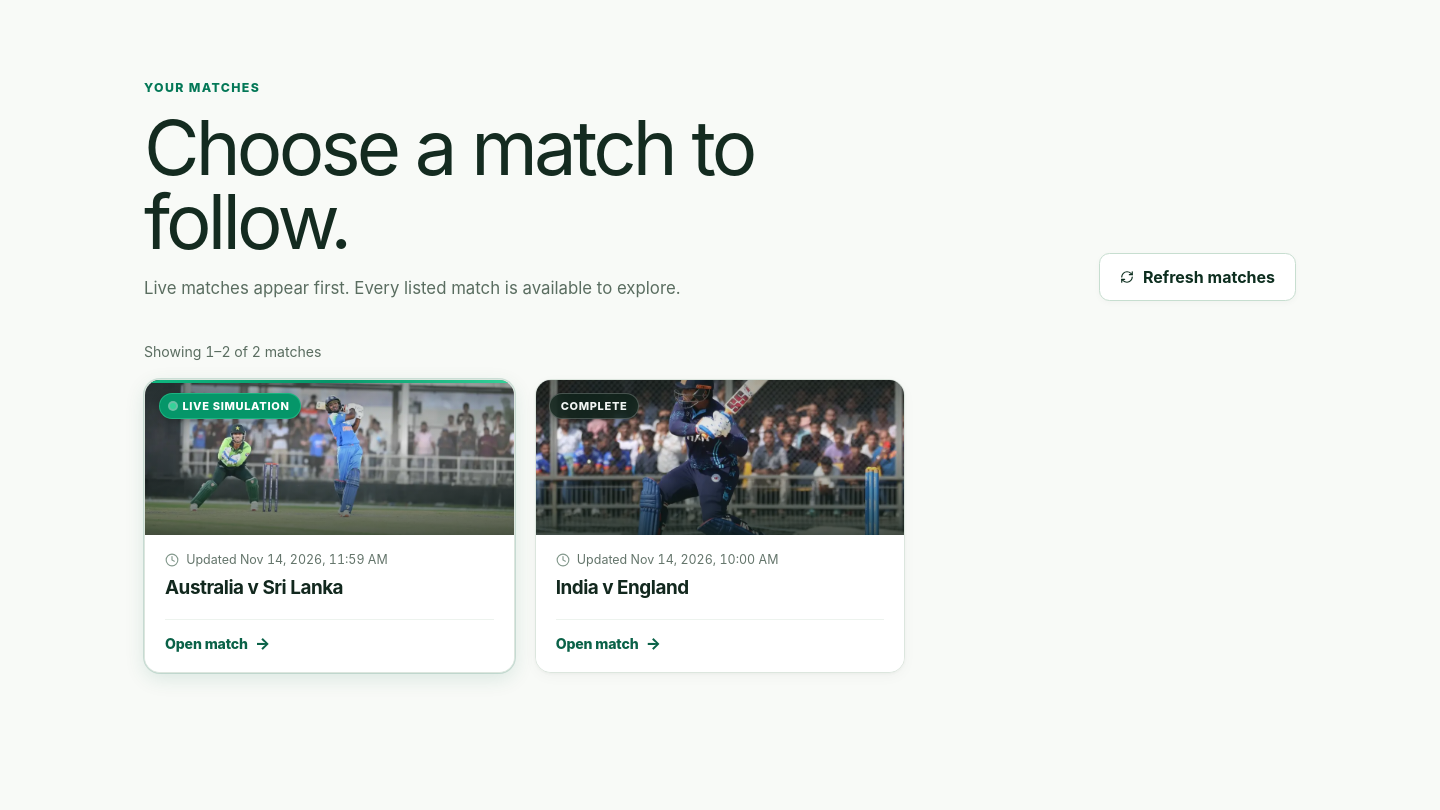
it: MatchDirectory › retains last-known data with a stale notice after a retryable refresh failure
Check: the link "Australia v Sri Lanka" is shown, box top-left (144, 378), bottom-right (515, 673)
Step 1. Click the button "Refresh matches" → (1198, 277), box top-left (1099, 253), bottom-right (1296, 301)
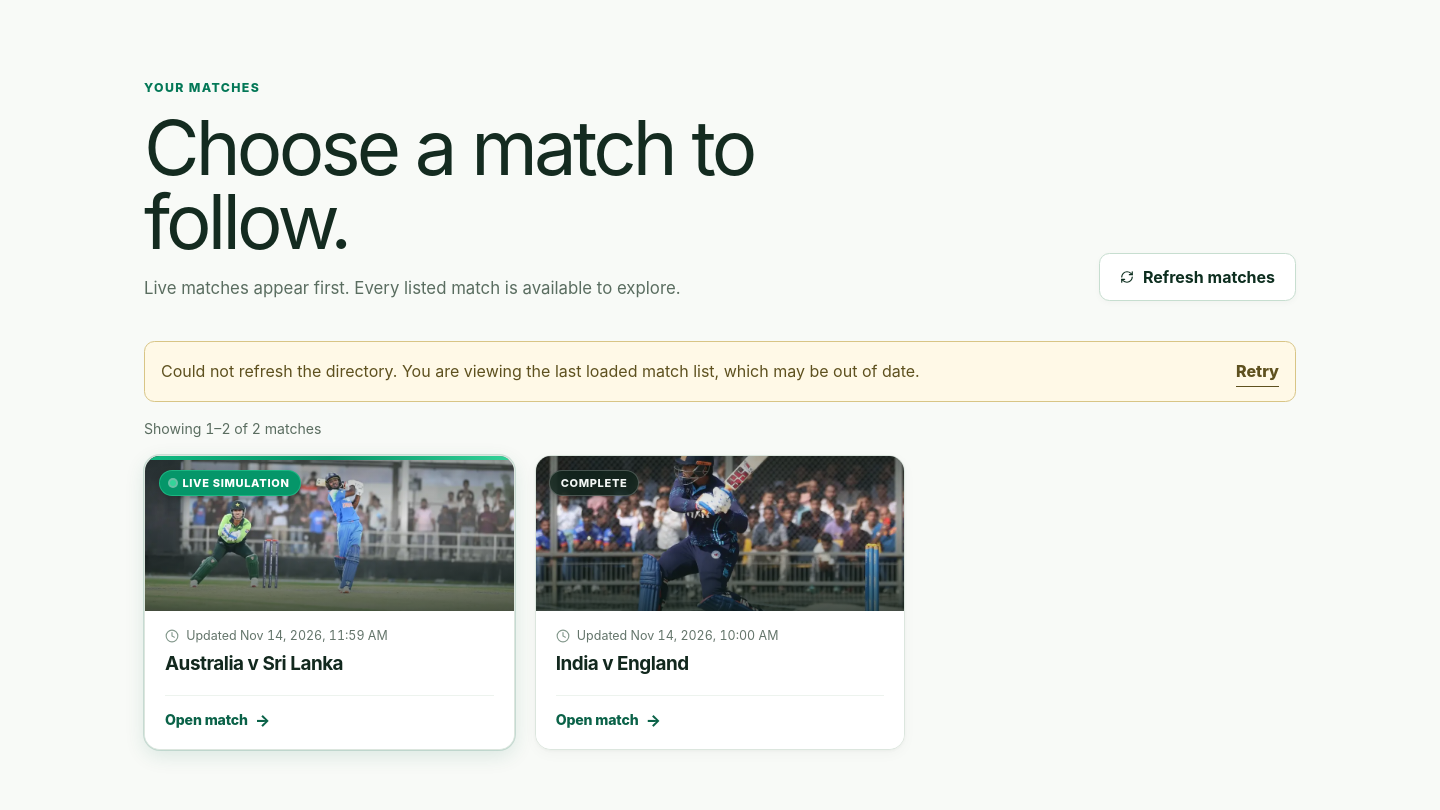
Check: the link "Australia v Sri Lanka" is shown, box top-left (144, 455), bottom-right (515, 750)
Check: the message shows "may be out of date", box top-left (161, 361), bottom-right (920, 381)
